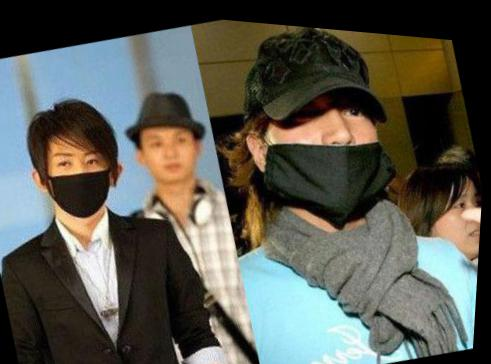NONE: (142, 120, 201, 184), (434, 177, 484, 250)
OK: (38, 131, 130, 225)
WRONG: (246, 58, 404, 219)
